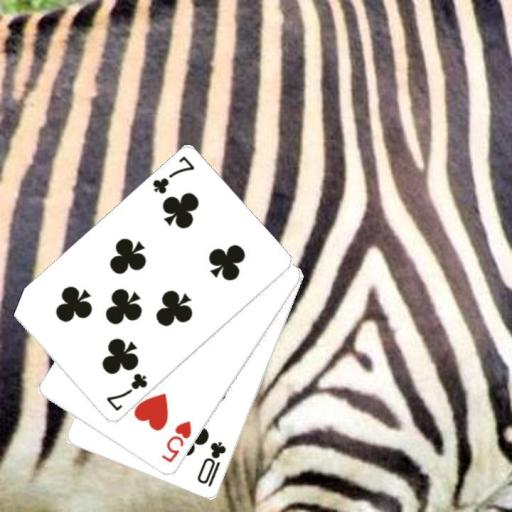10C: (194, 438, 228, 489)
5H: (158, 418, 193, 465)
7C: (149, 153, 196, 196), (103, 370, 149, 413)
